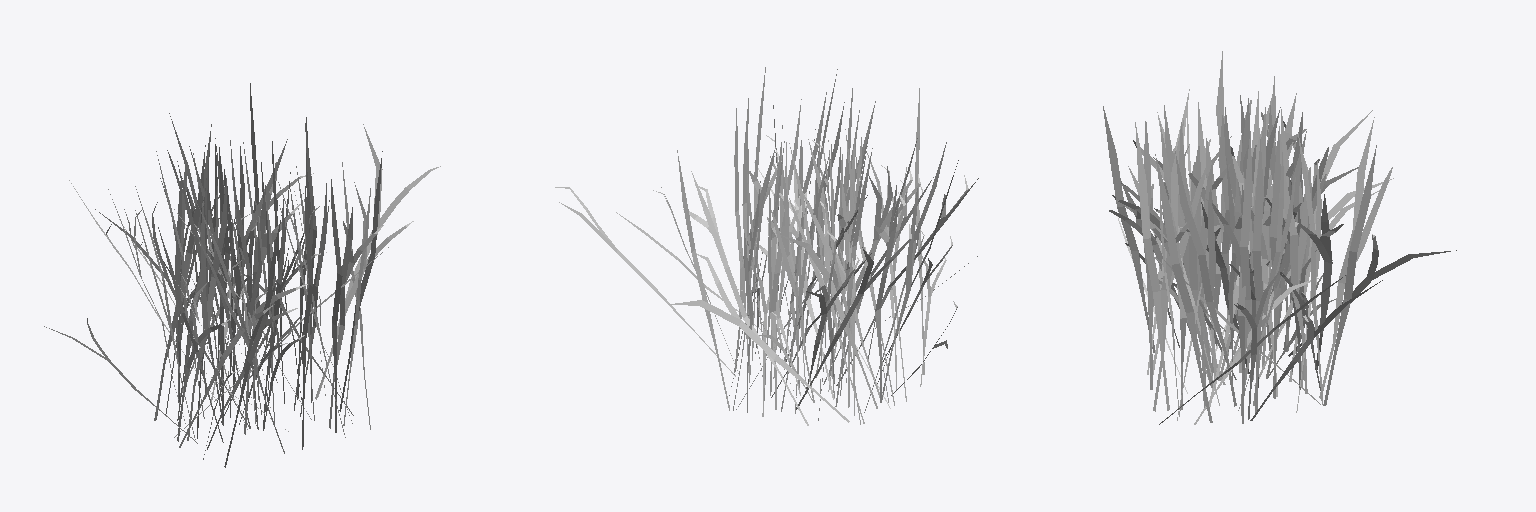
The model's file is grass.obj.
The picture shows the model from 3 angles: view 1: azimuth 30°, elevation 25°; view 2: azimuth 150°, elevation 25°; view 3: azimuth 270°, elevation 25°; orthographic projection.
Visible parts, largest first — view 1: Grass_Plant_green_Plane.159; view 2: Grass_Plant_green_Plane.159; view 3: Grass_Plant_green_Plane.159.
Part boxes in pixels (left/top/right/bottom): Grass_Plant_green_Plane.159: left=44, top=83, right=440, bottom=467; Grass_Plant_green_Plane.159: left=555, top=67, right=978, bottom=425; Grass_Plant_green_Plane.159: left=1103, top=51, right=1456, bottom=424.
Bounding box in the file's own units: 0.4422 × 0.304 × 0.3419.